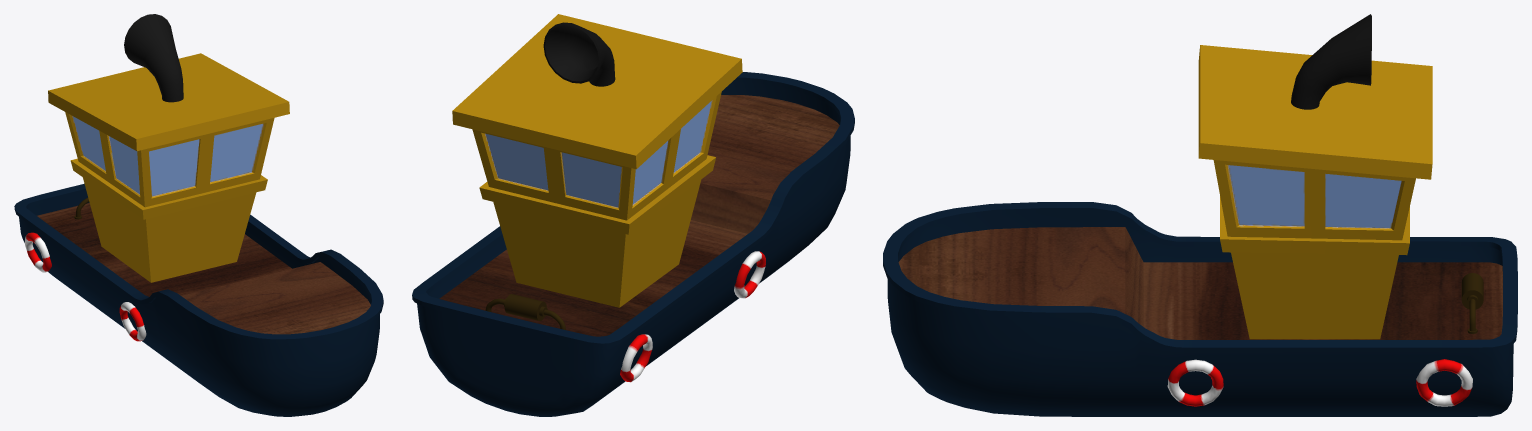
3 renders of one model, left to right at view 1: azimuth 30°, elevation 25°; view 2: azimuth 150°, elevation 25°; view 3: azimuth 270°, elevation 25°, orthographic. The views are drawn at different scales.
Visible parts, largest first — view 1: house_low, boat_low, floor_low, tube_low, circle1_low, circle_low; view 2: house_low, boat_low, floor_low, tube_low, bucks_low, circle1_low, circle_low; view 3: boat_low, house_low, floor_low, tube_low, circle1_low, circle_low, bucks_low.
Boxes of the visible parts, left/top/right/bottom form: house_low: left=48, top=53, right=289, bottom=282; boat_low: left=14, top=183, right=383, bottom=416; floor_low: left=37, top=203, right=370, bottom=334; tube_low: left=124, top=14, right=183, bottom=102; circle1_low: left=24, top=232, right=51, bottom=272; circle_low: left=119, top=302, right=146, bottom=341; house_low: left=452, top=14, right=742, bottom=307; boat_low: left=412, top=72, right=854, bottom=416; floor_low: left=439, top=95, right=839, bottom=336; tube_low: left=543, top=22, right=615, bottom=86; bucks_low: left=485, top=294, right=565, bottom=329; circle1_low: left=620, top=334, right=652, bottom=382; circle_low: left=734, top=251, right=765, bottom=298; boat_low: left=883, top=202, right=1517, bottom=416; house_low: left=1198, top=45, right=1432, bottom=339; floor_low: left=898, top=227, right=1502, bottom=339; tube_low: left=1291, top=14, right=1371, bottom=109; circle1_low: left=1416, top=359, right=1472, bottom=406; circle_low: left=1167, top=359, right=1223, bottom=406; bucks_low: left=1461, top=273, right=1483, bottom=333.
Bounding box in the file's own units: 2.94 × 4.59 × 6.92.
1 material, 1 textured.
